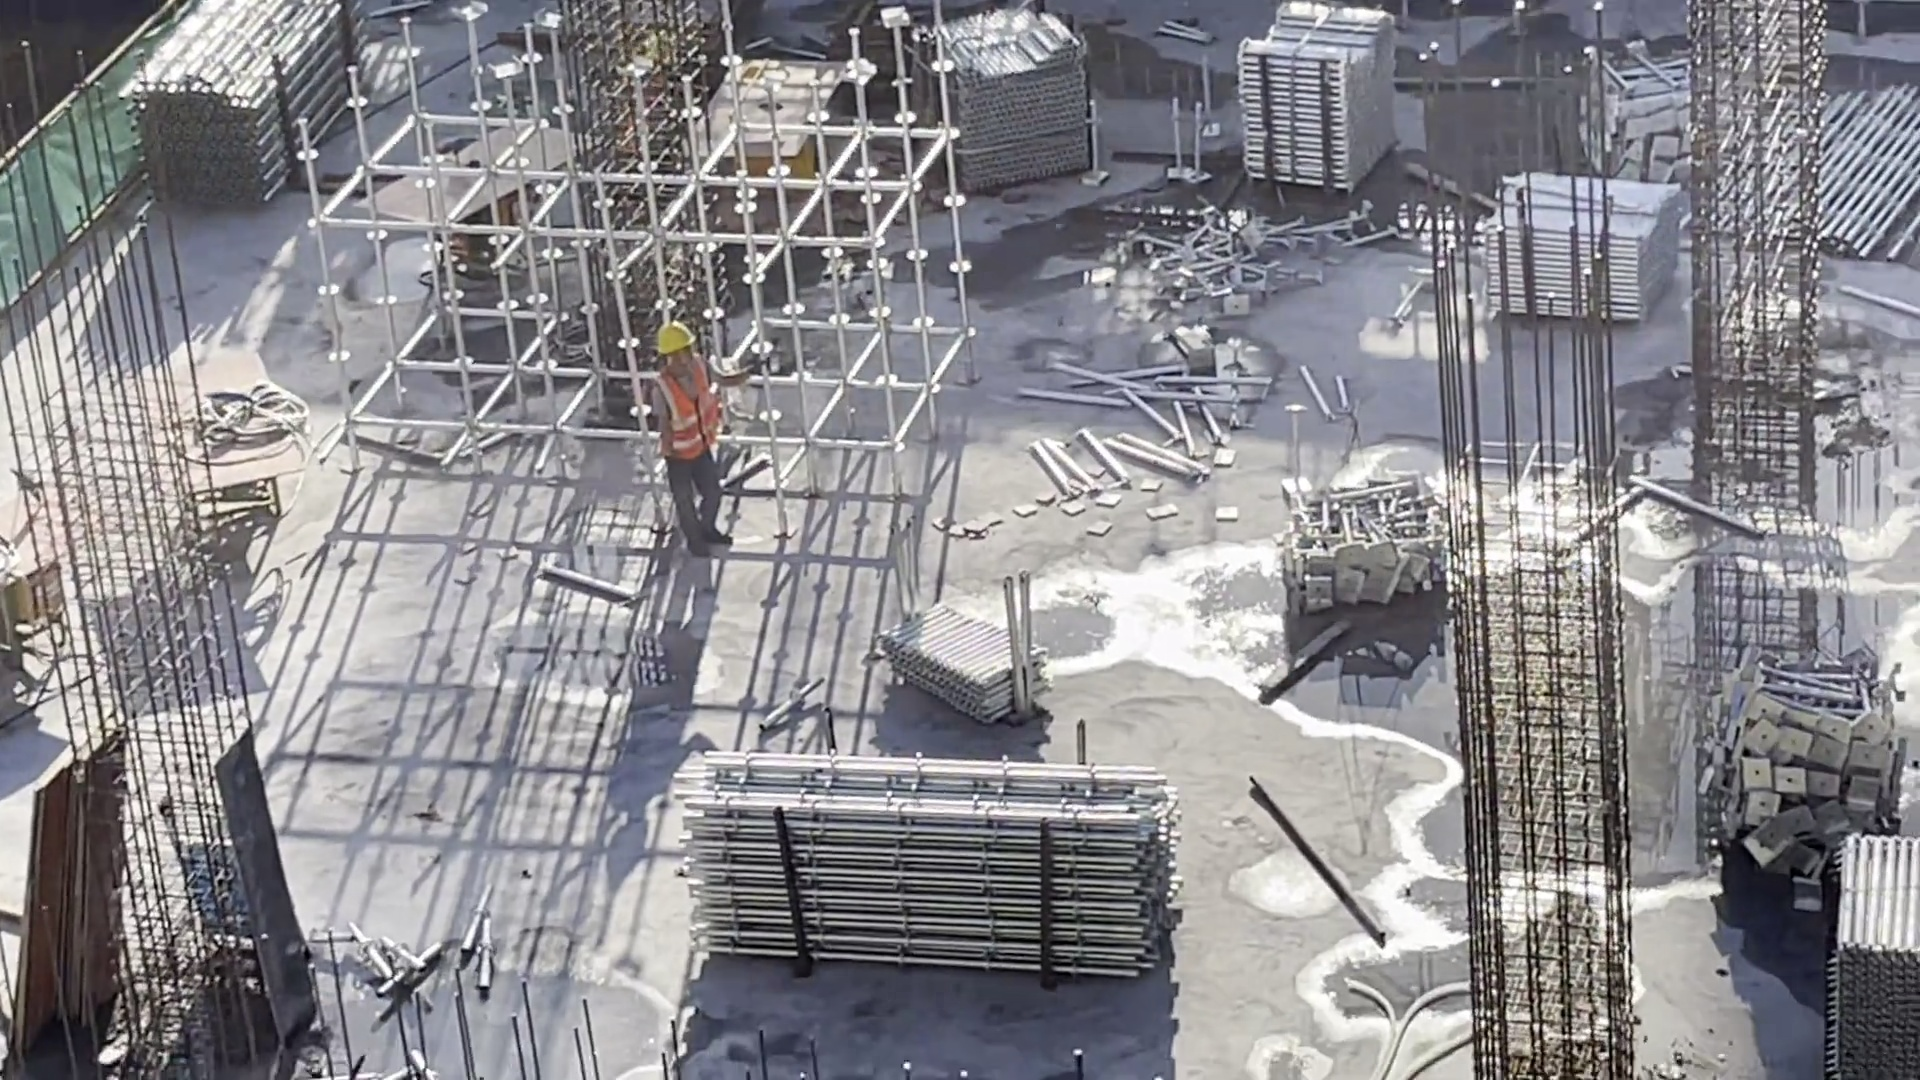board: (20, 737, 126, 1065)
cutter: (343, 119, 592, 319), (115, 345, 312, 534), (671, 53, 856, 205), (1, 489, 133, 625)
helmet: (662, 326, 695, 356)
person: (655, 324, 752, 552)
scaffold: (669, 747, 1195, 979), (129, 1, 339, 212), (1709, 647, 1906, 864), (929, 2, 1097, 211), (1245, 5, 1401, 195), (1481, 184, 1696, 316), (1291, 466, 1471, 612), (883, 595, 1062, 721), (1138, 205, 1328, 322), (1815, 817, 1920, 1028), (1588, 45, 1734, 193), (1823, 85, 1920, 242)
vest: (663, 359, 724, 459)
